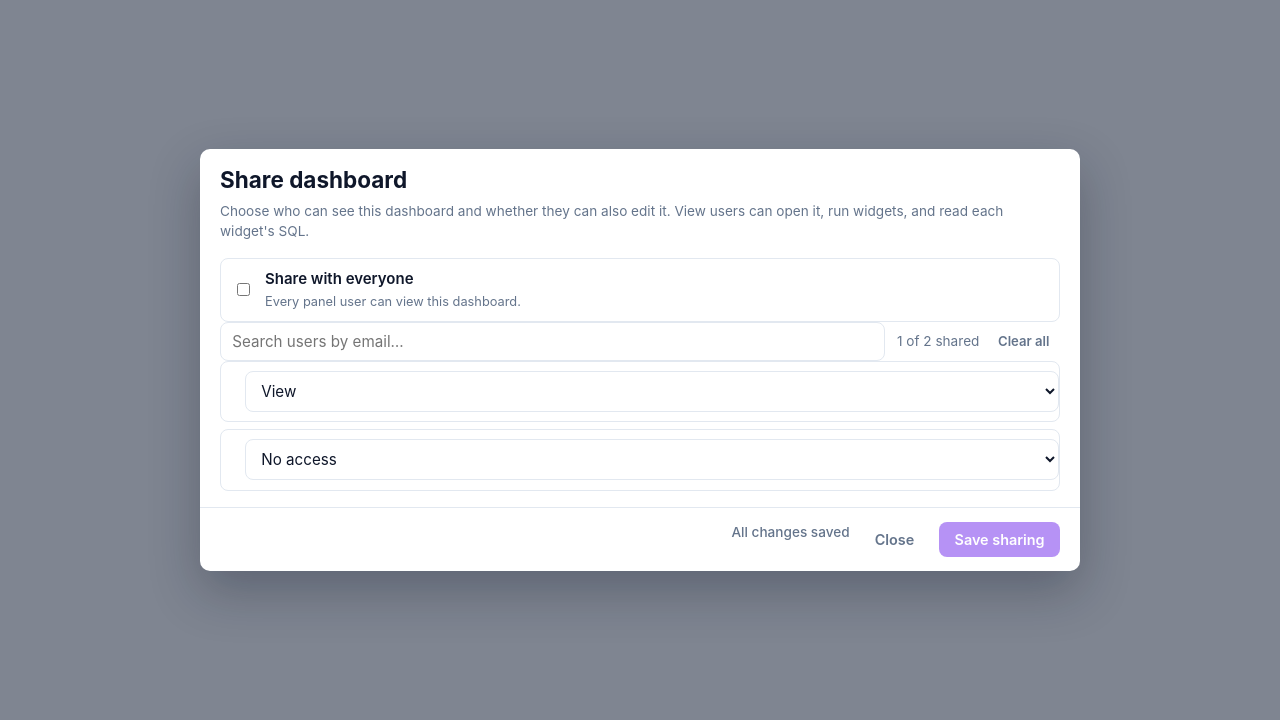
Test: ShareDashboardModal › grants a new user edit access and saves the full set
Step 1. Select "Edit" in the 2nd dropdown → [652, 460], box [245,439,1059,480]
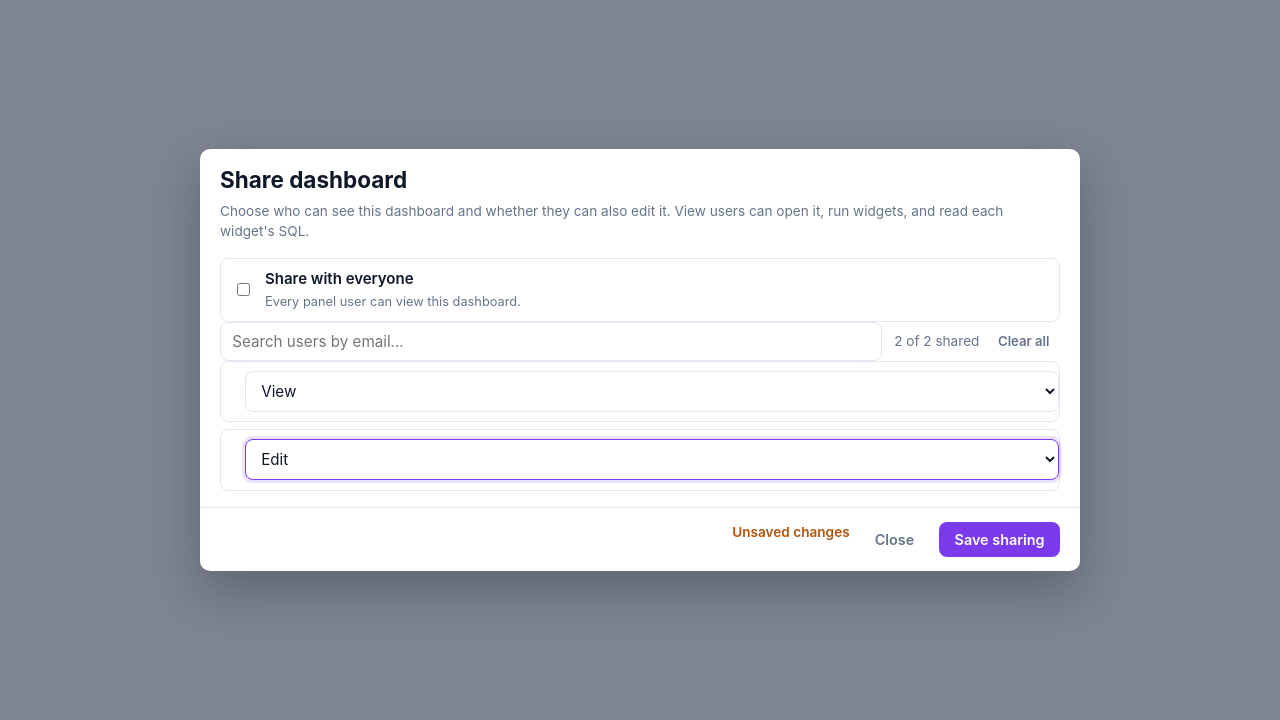
Check: the button "Save sharing" is enabled
Step 2. Click the button "Save sharing" → [1000, 540], box [939,522,1060,557]
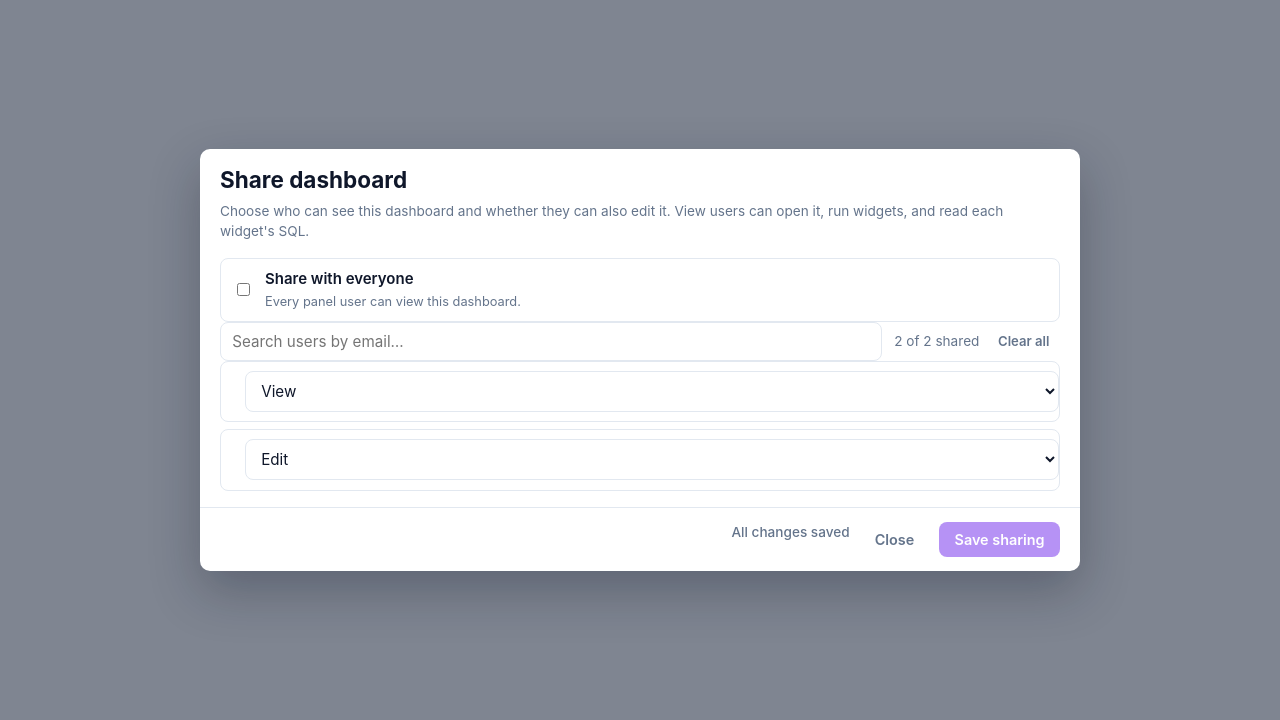
Check: the text "All changes saved" is shown, box [732,524,850,540]
